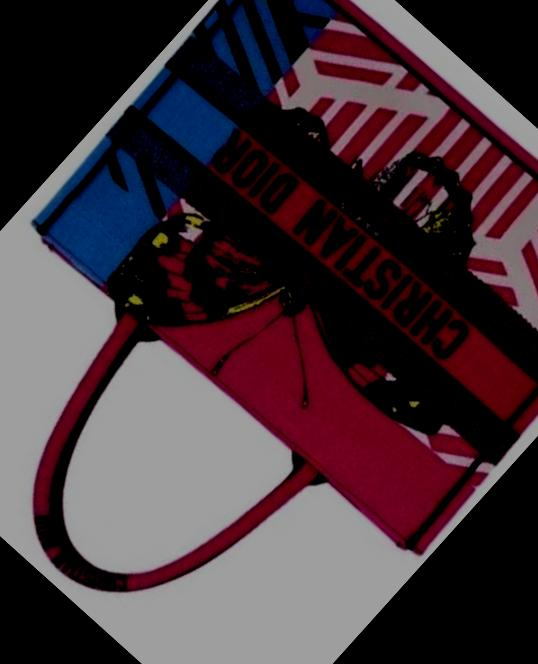DIOR: (192, 92, 497, 380), (1, 489, 149, 628)
